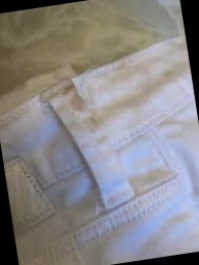earth: (115, 90, 150, 113), (63, 86, 86, 115), (86, 110, 111, 133), (162, 68, 184, 85)
